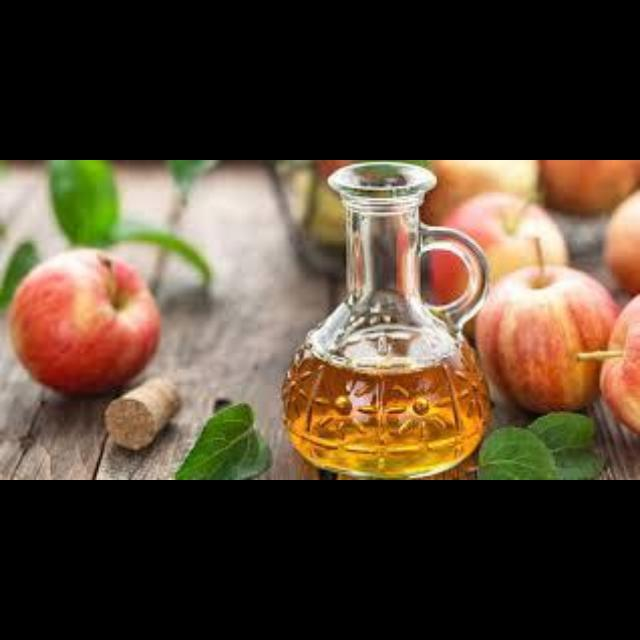apple: (8, 249, 159, 393), (475, 261, 616, 412), (441, 192, 568, 283), (578, 295, 638, 432), (429, 253, 465, 301)
